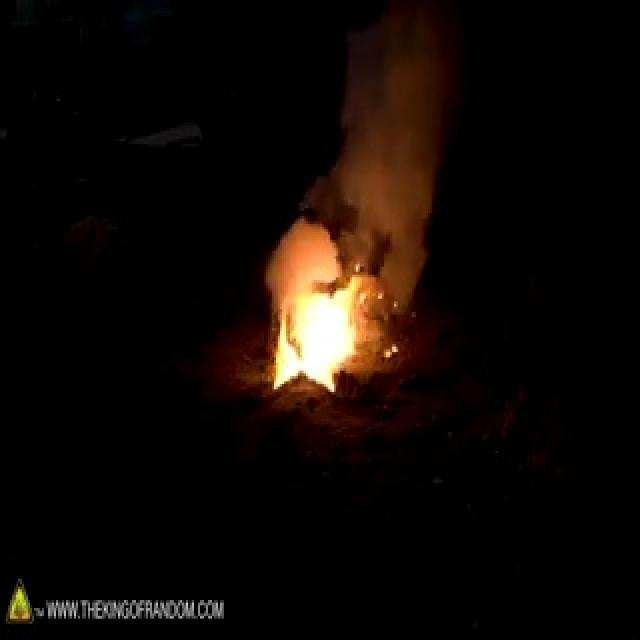fire: (263, 260, 381, 415)
